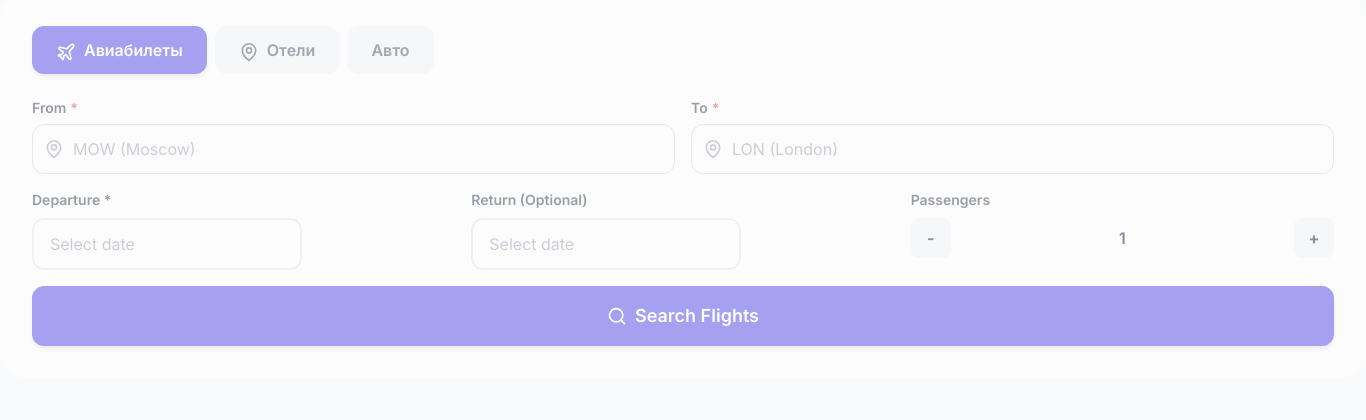
Scenario: SearchWidget Component › Accessibility › error message has alert role
Click the button "Search Flights".
click(683, 316)  # box [32, 286, 1334, 346]
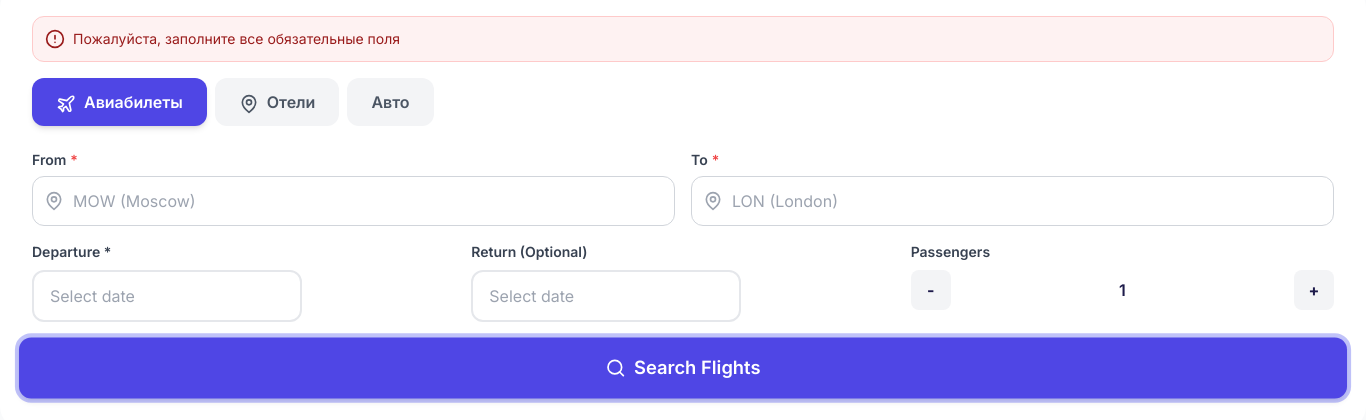
Expected: the message "Пожалуйста, заполните все обязательные поля" is shown, [32, 16, 1334, 62]
